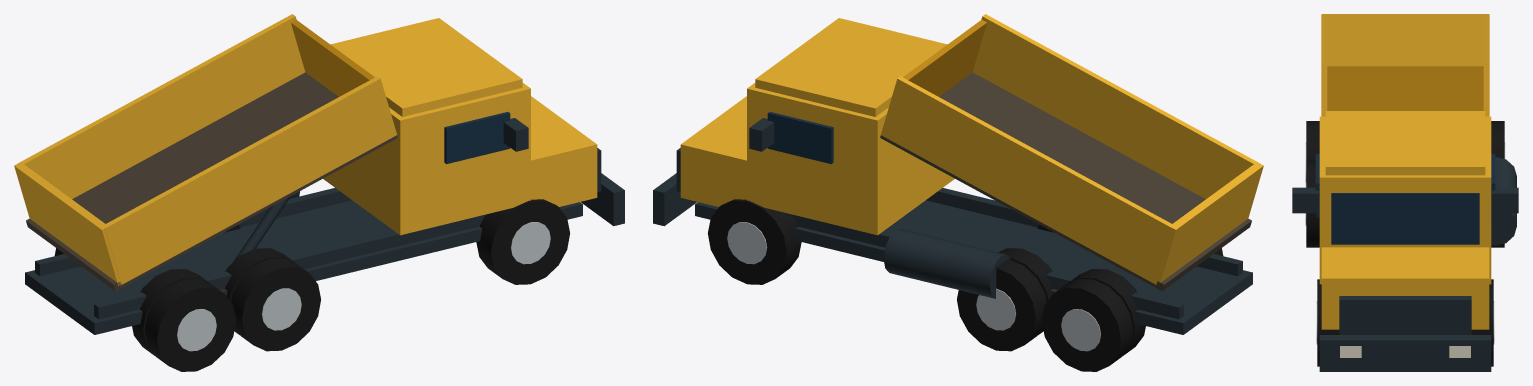
File: dump-truck.glb
3 views of the same model, side by side, from view 1: azimuth 30°, elevation 25°; view 2: azimuth 150°, elevation 25°; view 3: azimuth 270°, elevation 25° (orthographic). The views are drawn at different scales.
Parts seen in each view (by area): view 1: body, wheels, rims; view 2: body, wheels, rims; view 3: body, wheels, rims.
Part boxes in pixels (<box>): body: <box>14,14,624,334</box>; wheels: <box>54,199,570,371</box>; rims: <box>177,222,550,351</box>; body: <box>653,14,1263,334</box>; wheels: <box>707,199,1223,371</box>; rims: <box>727,222,1100,351</box>; body: <box>1292,14,1518,371</box>; wheels: <box>1306,121,1504,366</box>; rims: <box>1305,143,1505,344</box>.
Size of the model in its own units: 7.4 by 3.25 by 2.9.
